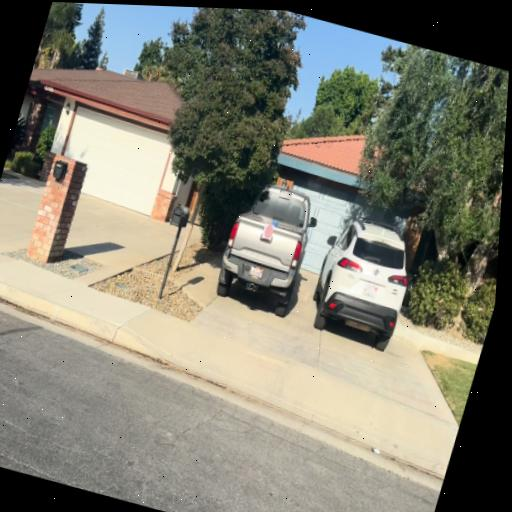bullseye: (262, 223, 274, 240)
